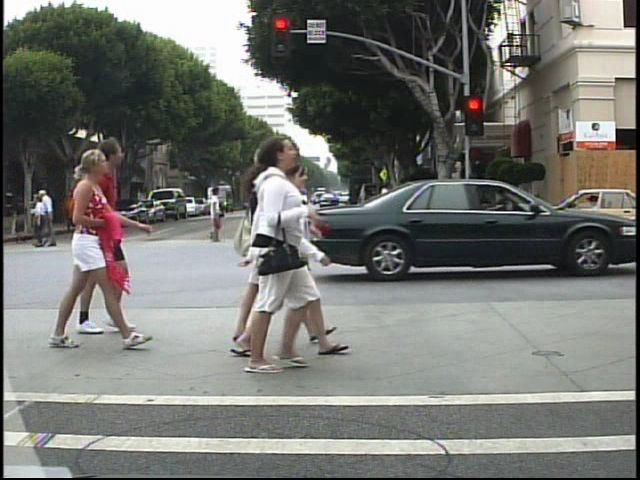person: (235, 136, 320, 379), (46, 146, 125, 355), (276, 159, 353, 372), (223, 147, 301, 354), (94, 139, 139, 336), (375, 177, 403, 240), (202, 184, 225, 247), (264, 184, 287, 242), (40, 186, 58, 248), (28, 194, 45, 249), (357, 187, 373, 223)
